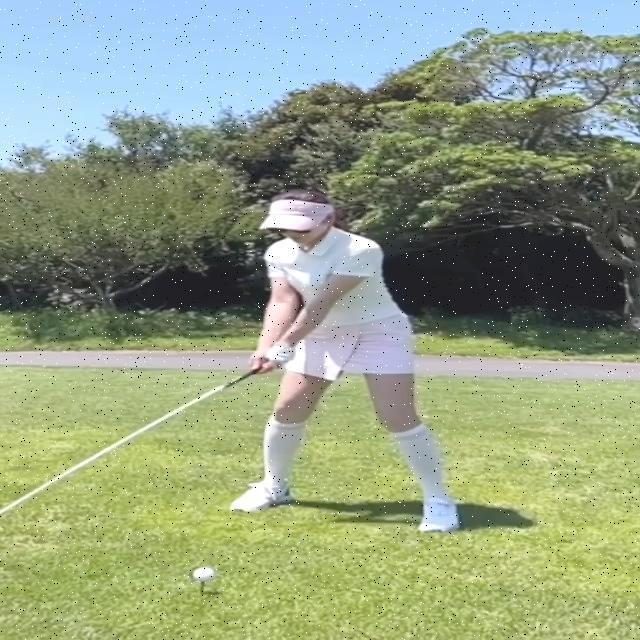GolfBall: (192, 567, 217, 581)
